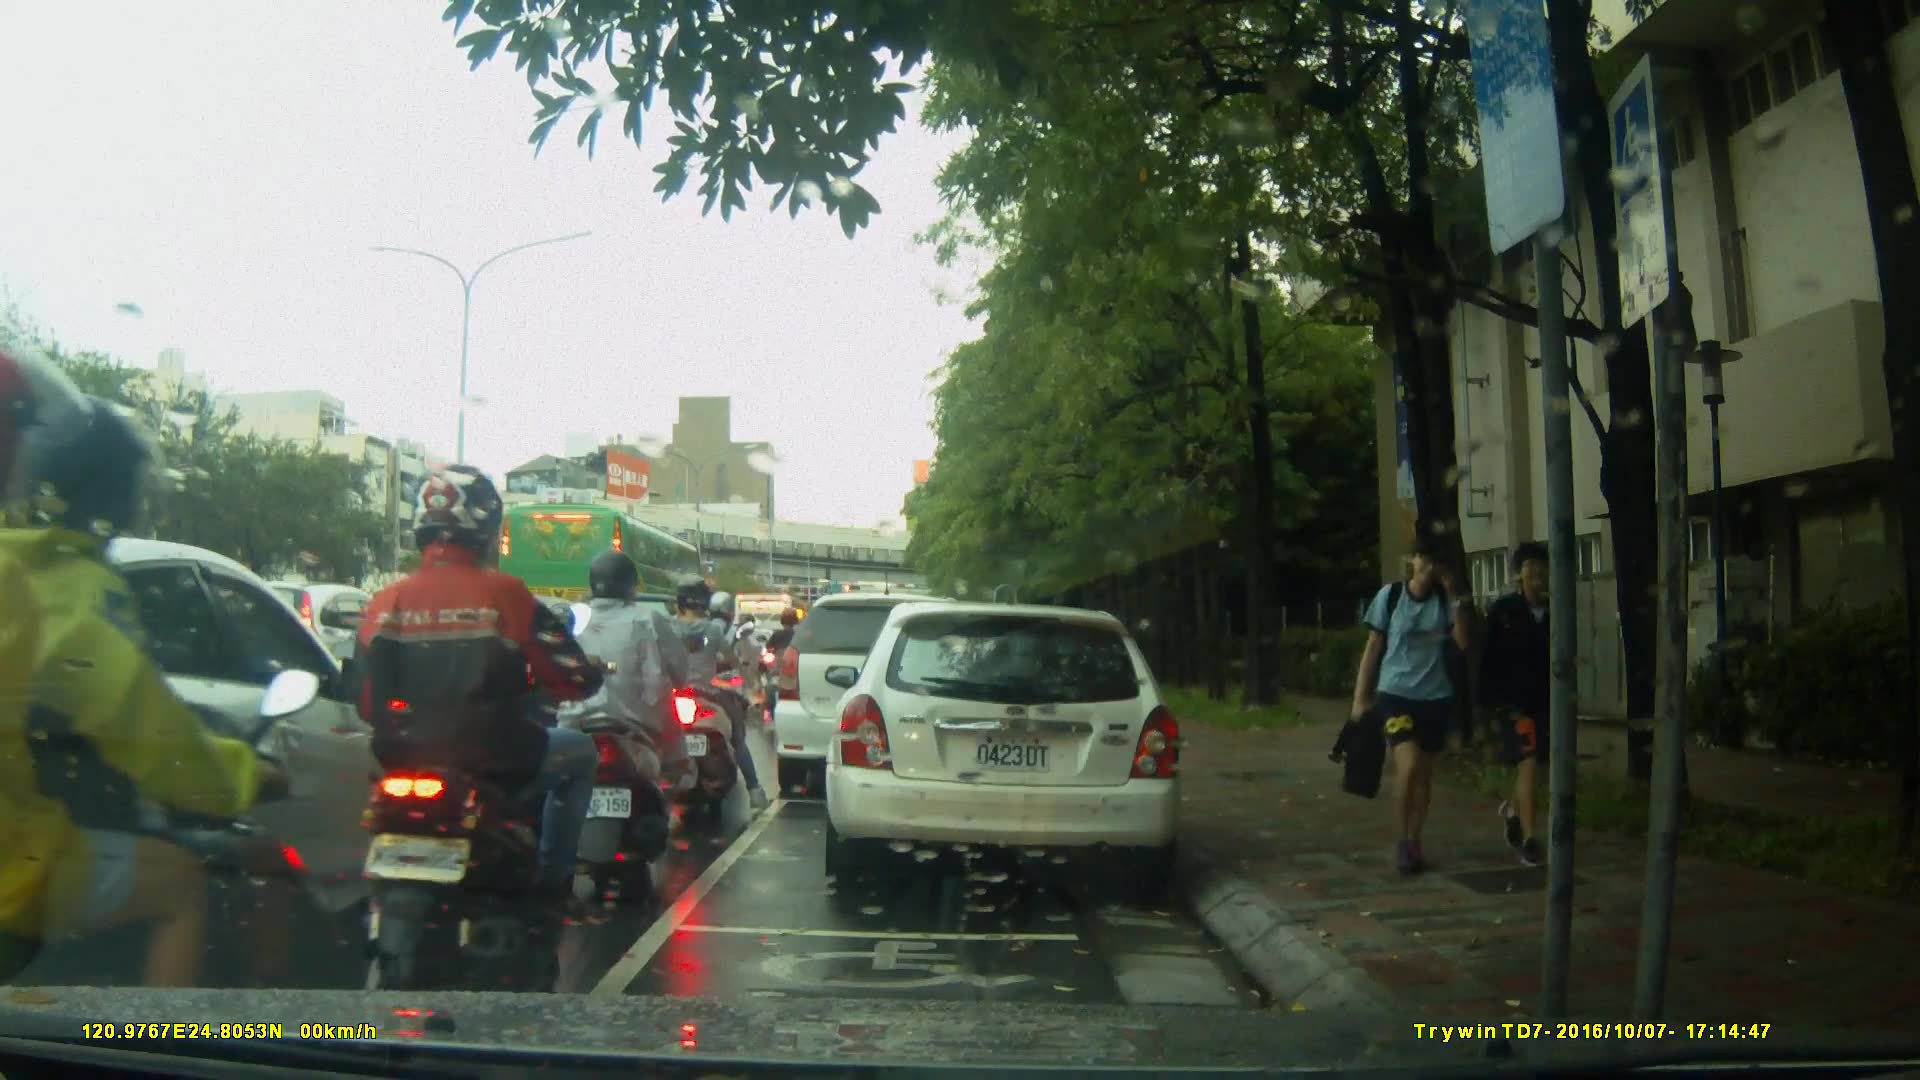pedestrian: (1327, 532, 1487, 876), (1478, 535, 1586, 875)
rider: (1, 345, 330, 1080), (354, 458, 626, 994), (552, 551, 724, 890), (644, 567, 749, 821), (697, 589, 771, 761), (767, 601, 812, 721)
vehicle: (1, 529, 455, 988), (831, 592, 1196, 897), (321, 590, 629, 779), (770, 590, 999, 803), (495, 502, 707, 636)
